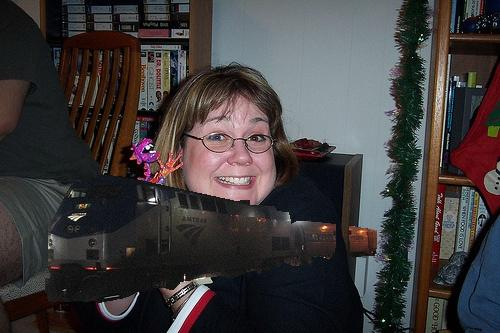tampered: (45, 176, 377, 303)
